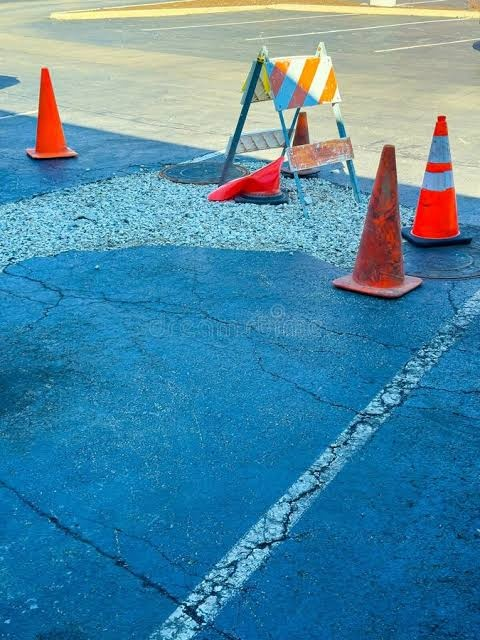safety_cone: (330, 135, 419, 301), (414, 115, 474, 266), (20, 62, 87, 169)
